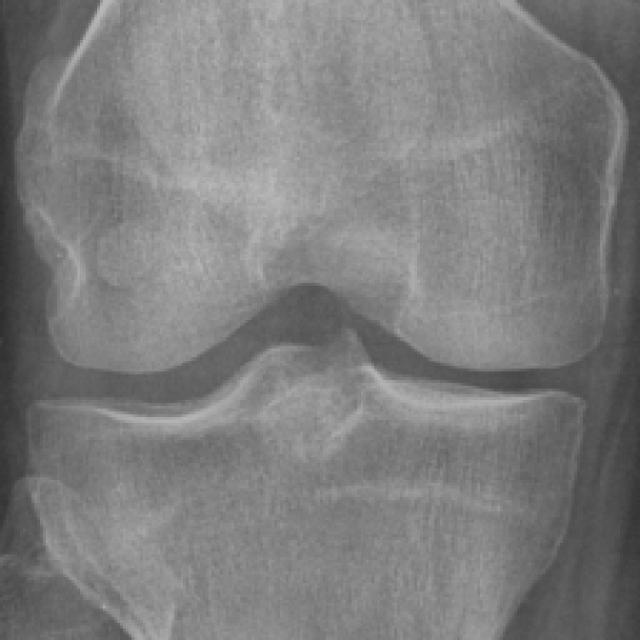femur: (15, 0, 629, 372)
tibia: (22, 334, 581, 640)
